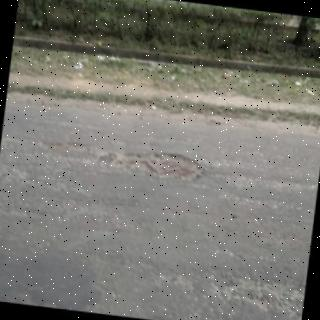pothole: (96, 152, 205, 182)
